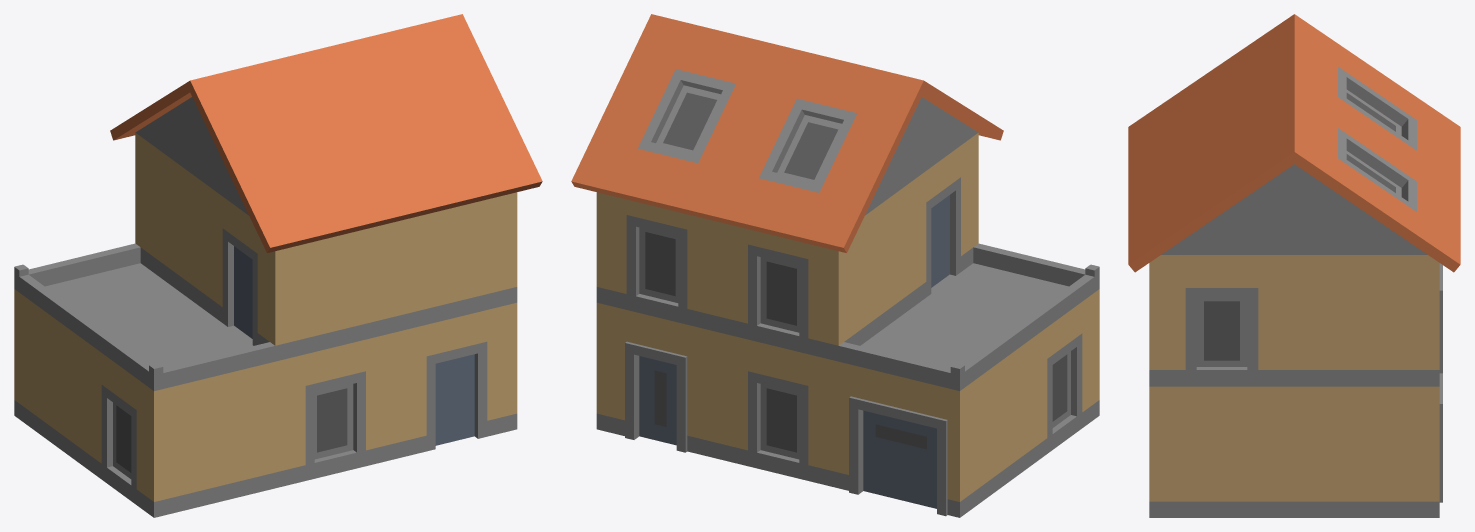
File: SM_Suburb_House_017.fbx
The picture shows the model from 3 angles, left to right: view 1: azimuth 30°, elevation 25°; view 2: azimuth 150°, elevation 25°; view 3: azimuth 270°, elevation 25°; orthographic projection. The views are drawn at different scales.
Parts seen in each view (by area): view 1: SM_Suburb_House_017; view 2: SM_Suburb_House_017; view 3: SM_Suburb_House_017.
Boxes of the visible parts, box(x1,y1,x2,y2) form: SM_Suburb_House_017: box(14, 14, 542, 517); SM_Suburb_House_017: box(571, 14, 1099, 517); SM_Suburb_House_017: box(1128, 14, 1460, 517).
Bounding box in the file's own units: 900 × 819 × 660.
